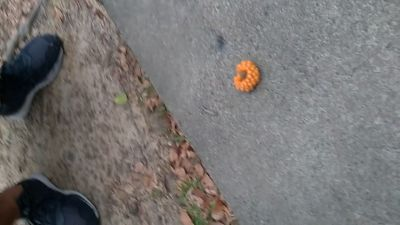eggs: (232, 58, 261, 93)
